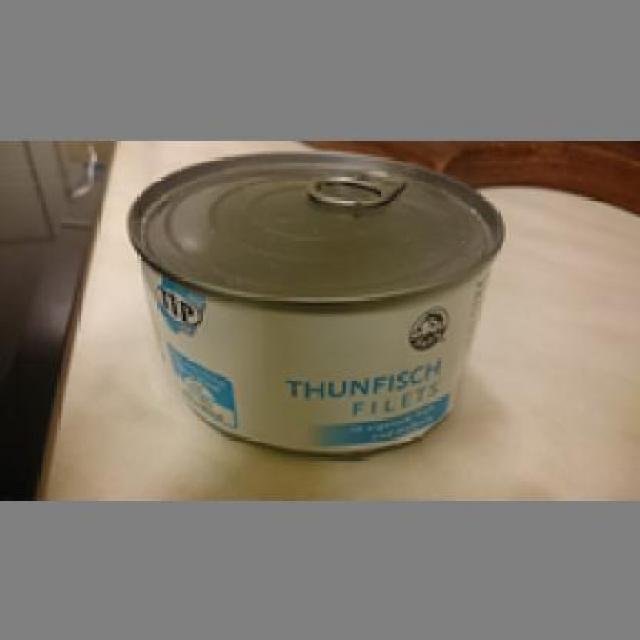Fish: (126, 146, 506, 454)
